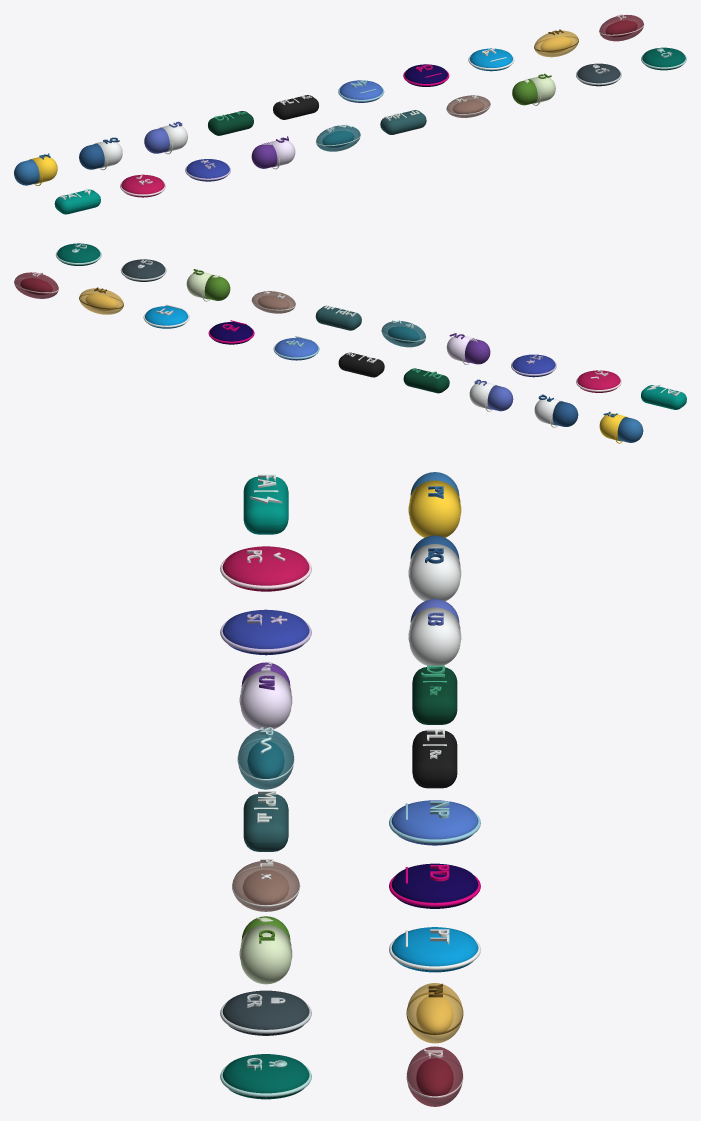
File: pills.glb
3 renders of one model, top to bottom at view 1: azimuth 30°, elevation 25°; view 2: azimuth 150°, elevation 25°; view 3: azimuth 270°, elevation 25°, orthographic. The views are drawn at different scales.
Parts seen in each view (by area): view 1: jinja2_gel, pyyaml_gel, scipy_gel, flask_body, fastapi_body, django_body, matplotlib_body, pillow_gel, pydantic_body, starlette_body, certifi_body, cryptography_body (+17 smaller); view 2: jinja2_gel, pyyaml_gel, scipy_gel, flask_body, django_body, fastapi_body, matplotlib_body, pillow_gel, starlette_body, pydantic_body, cryptography_body, certifi_body (+17 smaller); view 3: pydantic_body, starlette_body, certifi_body, cryptography_body, pytest_body, numpy_body, pandas_body, pillow_gel, jinja2_gel, pyyaml_gel, scipy_gel, celery_b (+12 smaller).
Boxes of the visible parts, x1,y1,x2,y2 form: jinja2_gel: [599, 14, 643, 41]; pyyaml_gel: [534, 30, 578, 57]; scipy_gel: [316, 125, 360, 151]; flask_body: [273, 95, 318, 119]; fastapi_body: [54, 189, 100, 214]; django_body: [208, 111, 253, 135]; matplotlib_body: [380, 110, 426, 134]; pillow_gel: [446, 95, 490, 117]; pydantic_body: [121, 174, 164, 197]; starlette_body: [186, 159, 229, 181]; certifi_body: [642, 47, 685, 70]; cryptography_body: [577, 63, 620, 86]; jinja2_gel: [14, 272, 58, 298]; pyyaml_gel: [79, 288, 123, 314]; scipy_gel: [381, 321, 425, 347]; flask_body: [338, 352, 384, 377]; django_body: [403, 368, 449, 393]; fastapi_body: [641, 385, 686, 409]; matplotlib_body: [315, 306, 361, 330]; pillow_gel: [252, 291, 295, 313]; starlette_body: [512, 354, 555, 377]; pydantic_body: [577, 370, 620, 392]; cryptography_body: [122, 259, 165, 281]; certifi_body: [57, 243, 100, 265]; pydantic_body: [222, 546, 309, 591]; starlette_body: [222, 609, 309, 655]; certifi_body: [222, 1054, 309, 1099]; cryptography_body: [222, 990, 309, 1035]; pytest_body: [391, 927, 478, 972]; numpy_body: [391, 800, 478, 845]; pandas_body: [391, 863, 478, 908]; pillow_gel: [232, 861, 299, 911]; jinja2_gel: [407, 1046, 462, 1106]; pyyaml_gel: [407, 983, 462, 1043]; scipy_gel: [238, 729, 293, 789]; celery_b: [240, 924, 291, 984].
Size of the model in its own units: 15.43 by 0.624 by 2.78.
